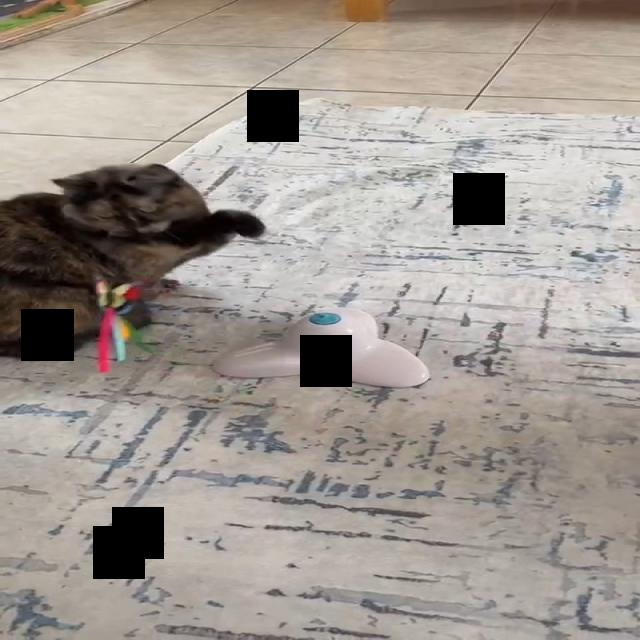authorized: (0, 161, 265, 358)
